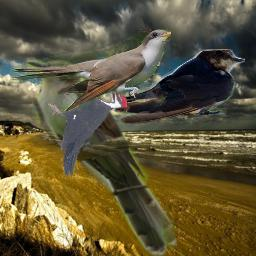Cuckoo: (24, 56, 177, 256), (10, 29, 171, 111)
Swallow: (111, 49, 245, 124)
Woodpecker: (47, 83, 129, 178)
